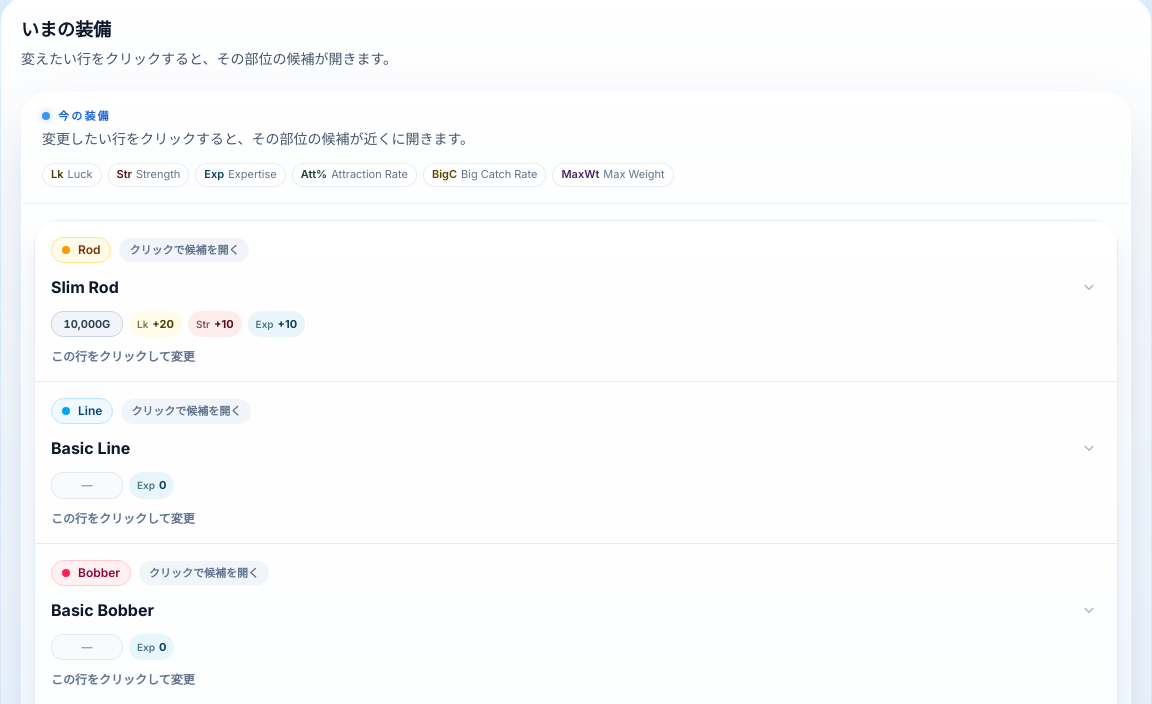
Test case: Step 1 loadout UI quality › shows recommendation controls and can filter to only better candidates
Step 1. Click the button named "Rod を選び直す" → (576, 301), box x1=35 y1=221 x2=1117 y2=381
(page scrolled)
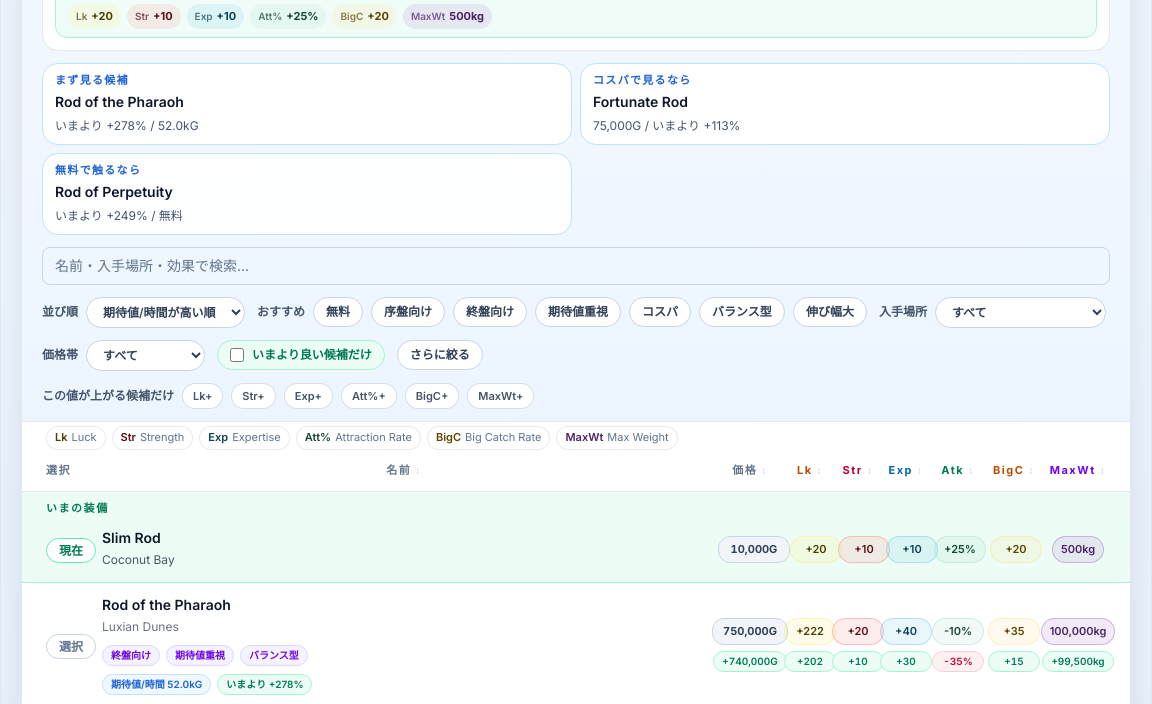
expect the dropdown named "候補の並び順" is shown: met, box x1=86 y1=297 x2=245 y2=328
expect the dropdown named "候補の入手場所" is shown: met, box x1=935 y1=297 x2=1106 y2=328
expect the dropdown named "候補の価格帯" is shown: met, box x1=86 y1=340 x2=205 y2=371
Step 2. Click the checkbox named "いまより期待値が上がる候補だけを表示" → (237, 355), box x1=230 y1=348 x2=244 y2=362
(page scrolled)
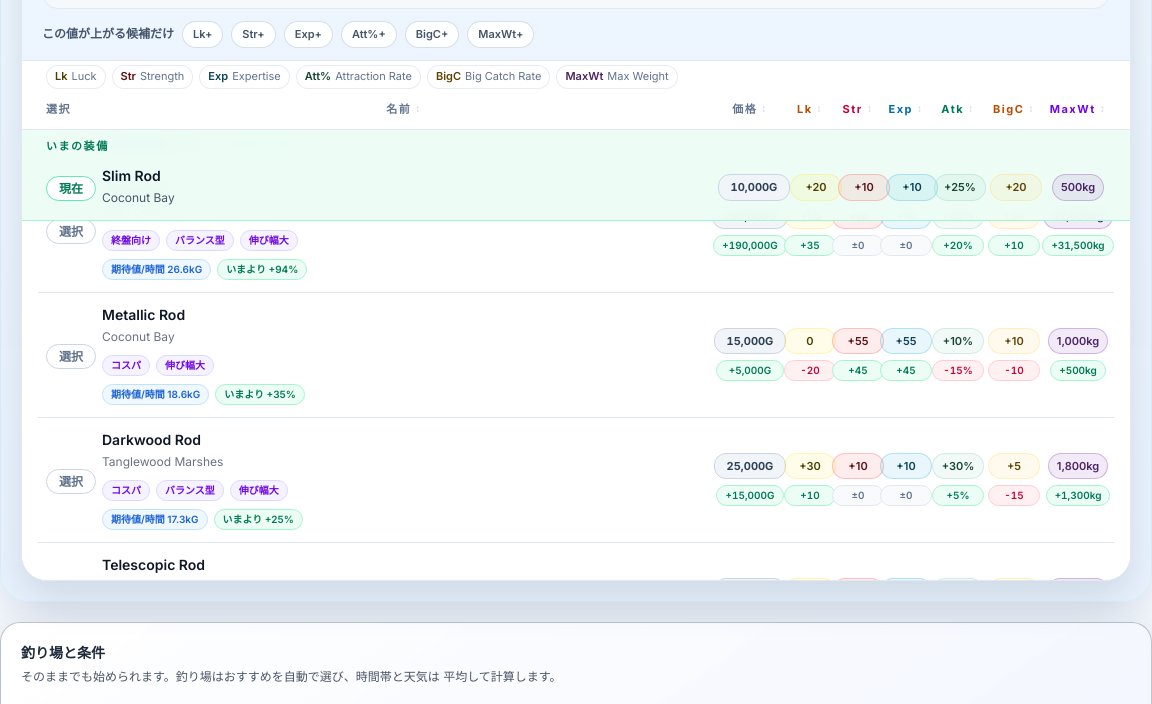
expect the button with test id "picker-option-row" shows "期待値/時間": met, box x1=38 y1=292 x2=1114 y2=418
expect the button with test id "picker-option-row" shows "いまより": met, box x1=38 y1=292 x2=1114 y2=418
